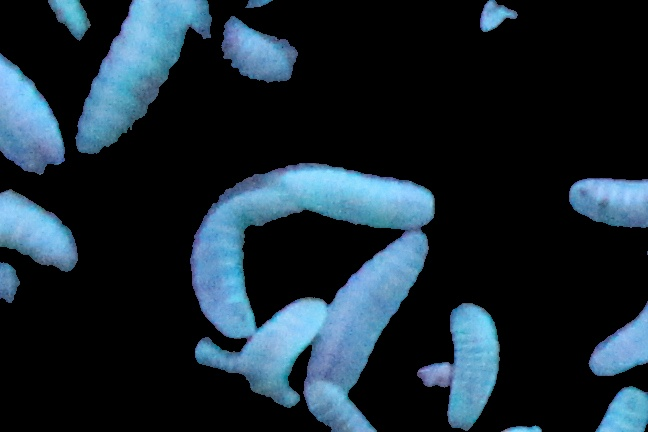larvae: (57, 1, 180, 163), (320, 237, 434, 392), (186, 194, 286, 336), (163, 1, 300, 97), (240, 297, 326, 420), (273, 163, 432, 223), (440, 309, 500, 429), (1, 27, 49, 166), (1, 185, 77, 272), (585, 296, 648, 381), (566, 167, 648, 230), (305, 382, 378, 432), (598, 384, 648, 432), (26, 1, 149, 20)
